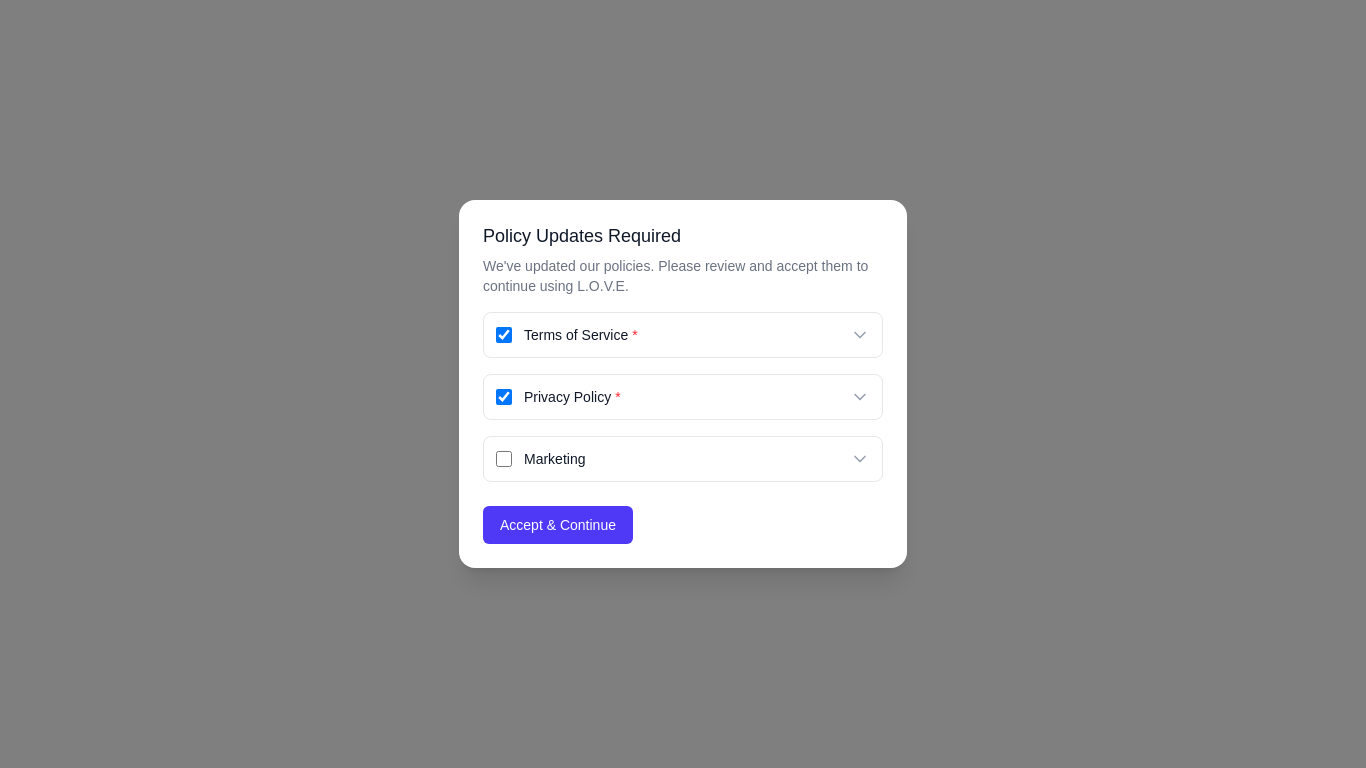
Scenario: ConsentGate › handles submission error
Expected: the heading "Policy Updates Required" is shown, x1=483 y1=226 x2=681 y2=246
Click the button "Accept & Continue" at (558, 525), box x1=483 y1=506 x2=633 y2=544
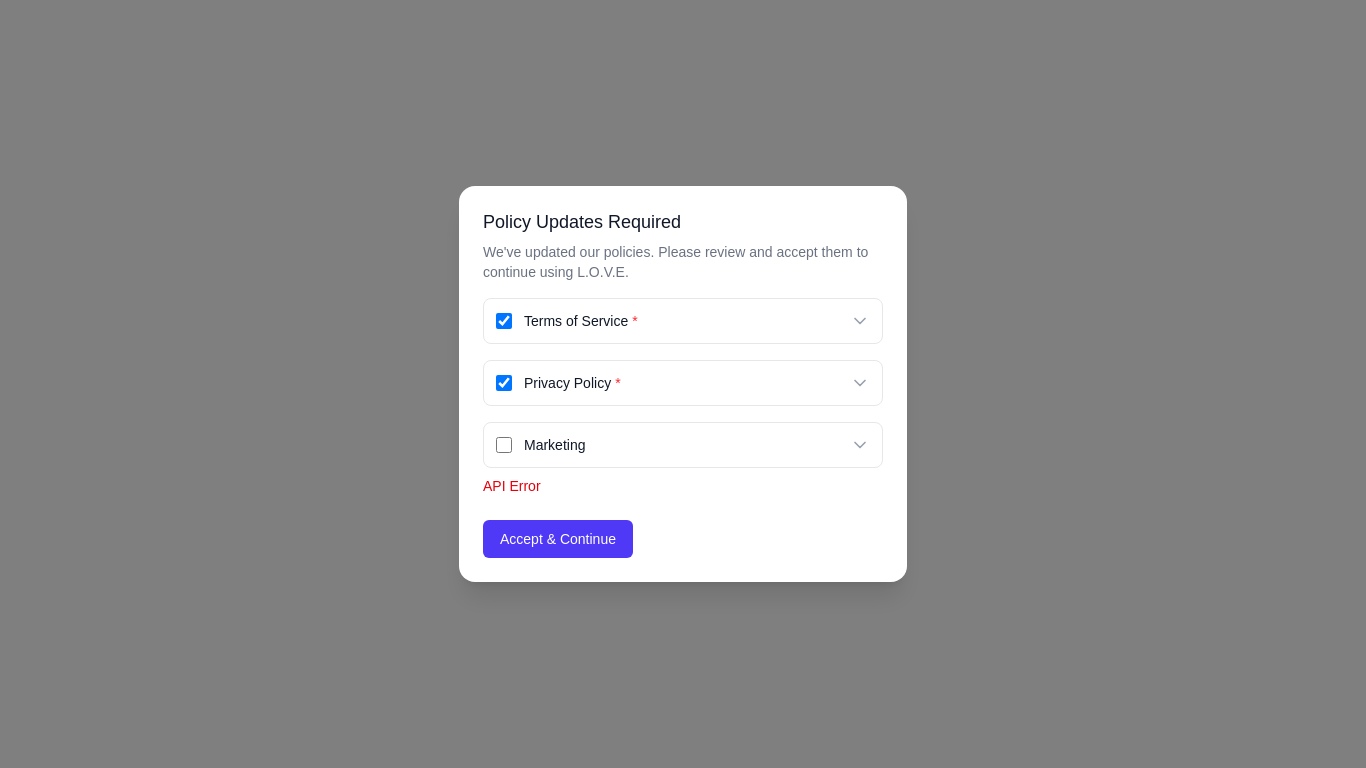
Result: the text "API Error" is shown at x1=483 y1=478 x2=541 y2=494
